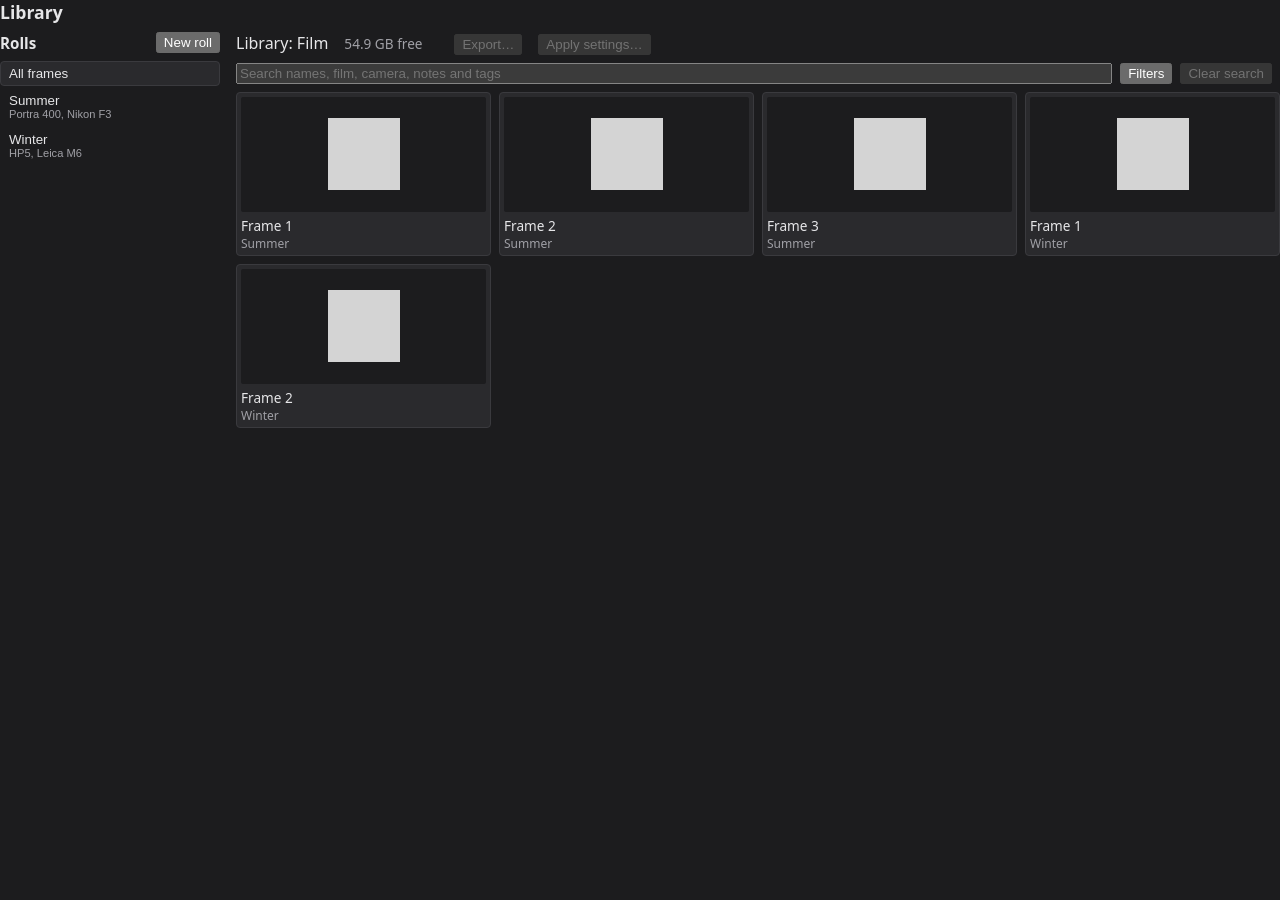
Test: LibraryView › rolls › needs a name, accepts only whole-number ISO, and shows what the backend refuses
The image size is (1280, 900).
Step 1. Click the button "New roll" → (188, 42), box [156,32,220,53]
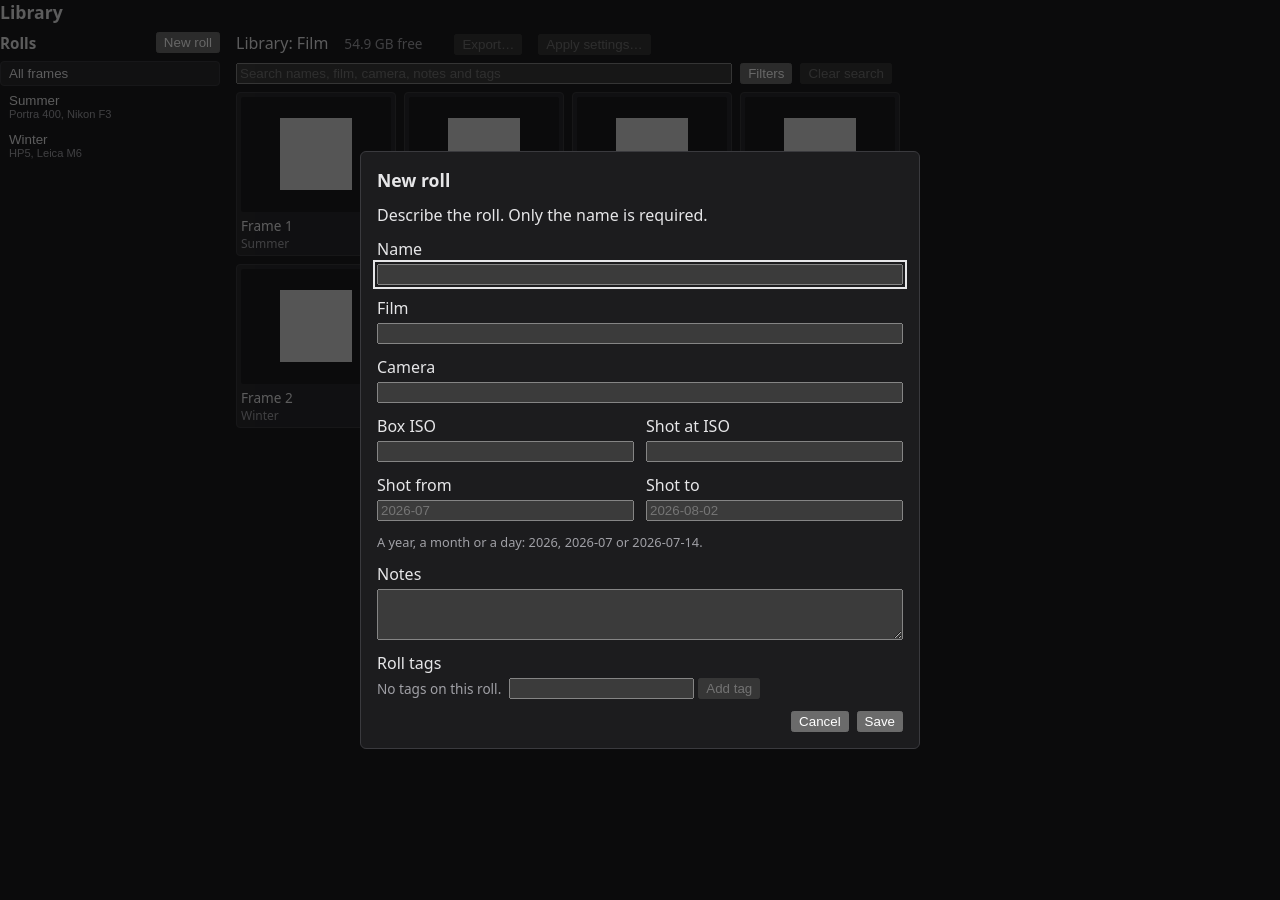
Step 2. Type "4OO" into the field labelled "Box ISO" → (506, 452), box [377,441,634,462]
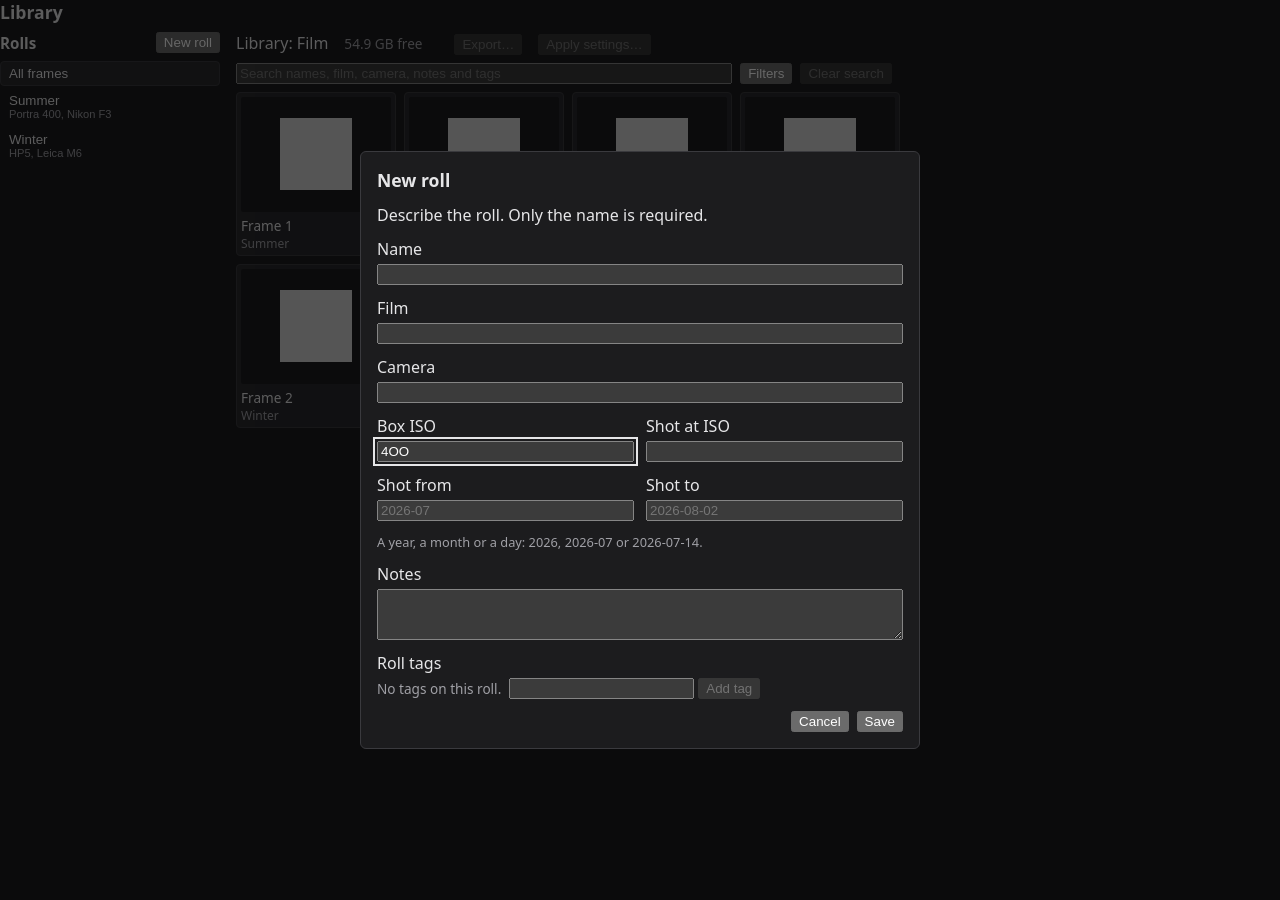
Step 3. Click the button "Save" → (880, 722), box [857,711,903,732]
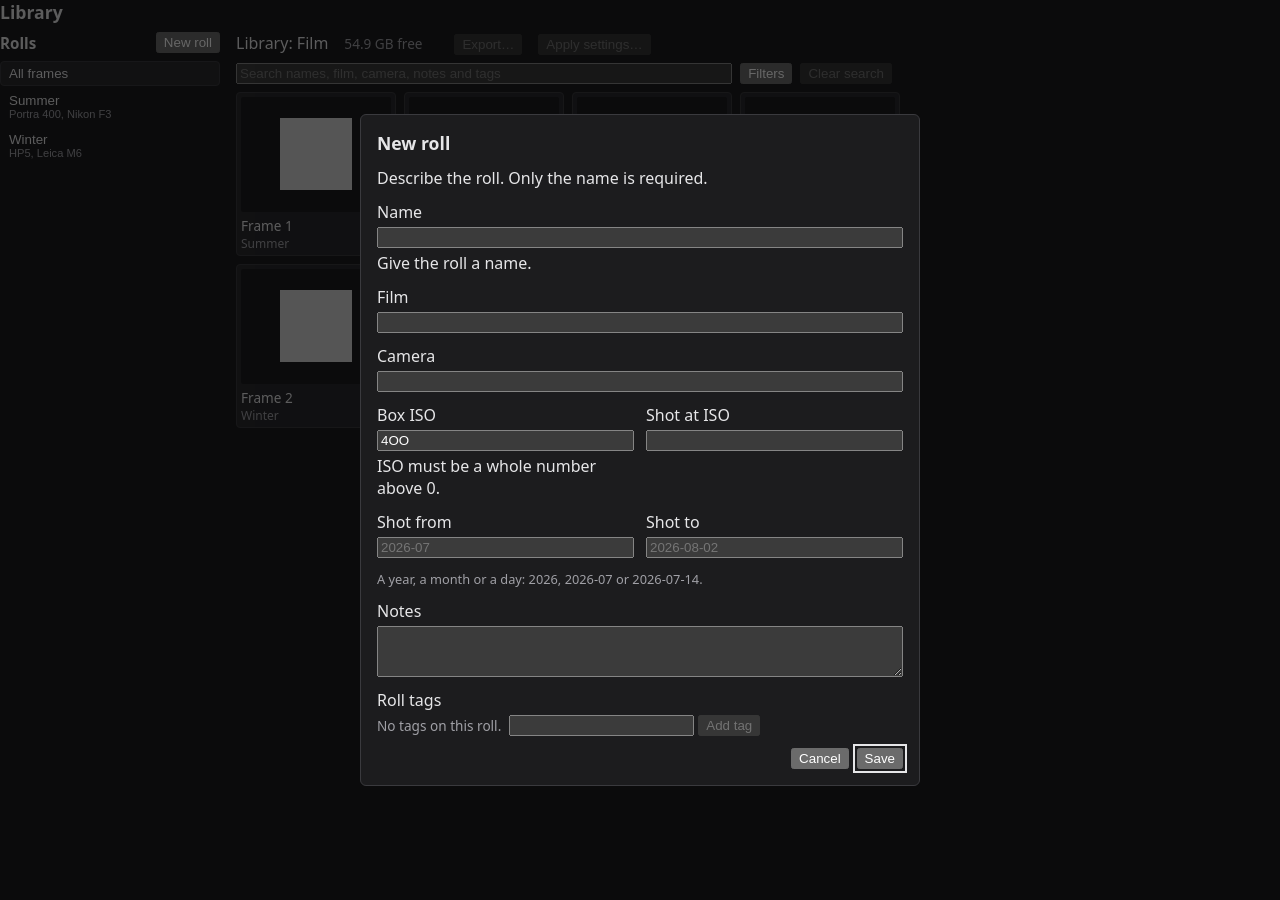
Step 4. Type "X" into the field labelled "Name" → (640, 238), box [377,227,903,248]
Step 5. Clear the field labelled "Box ISO" → (506, 440), box [377,430,634,451]
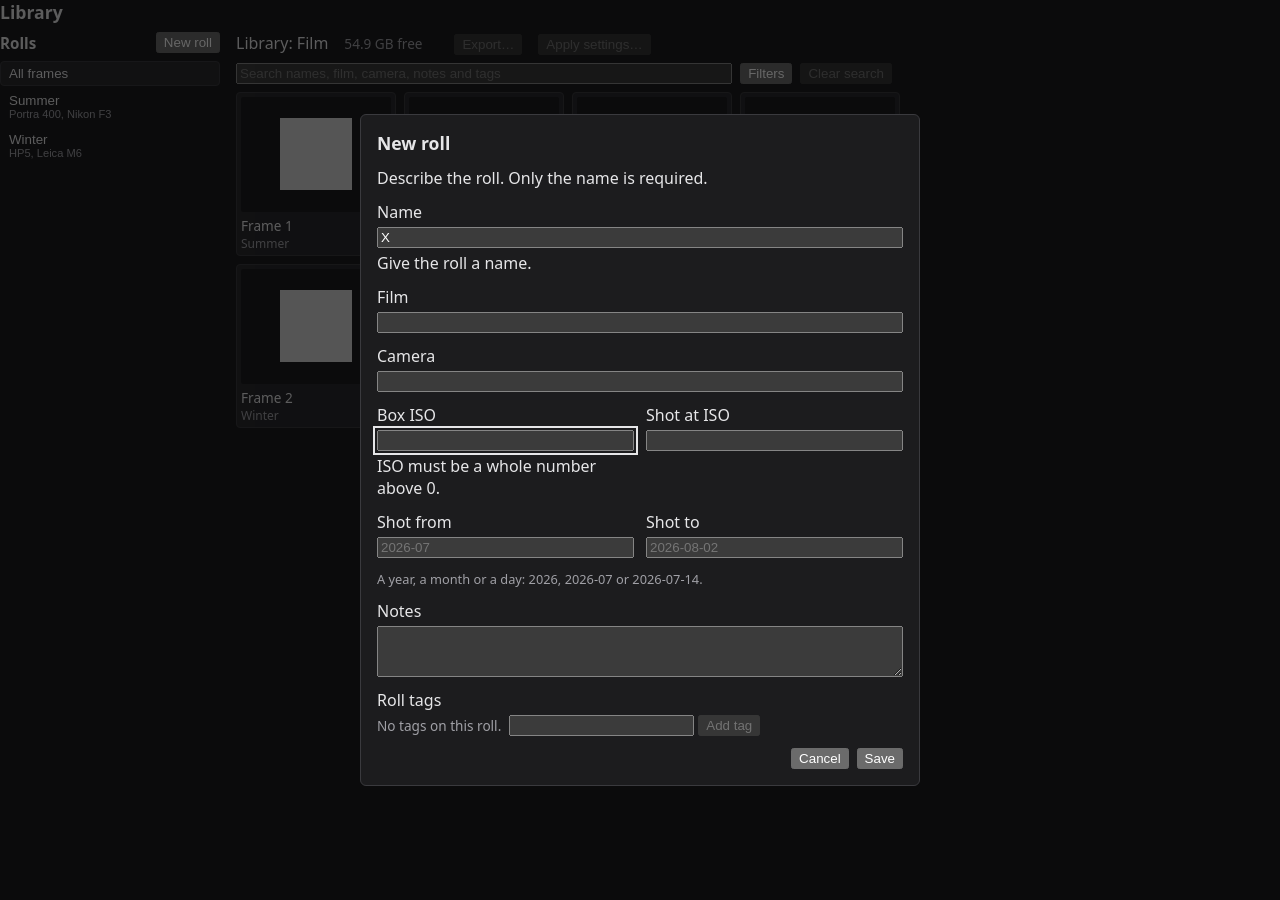
Step 6. Type "2026-13" into the field labelled "Shot from" → (506, 548), box [377,537,634,558]
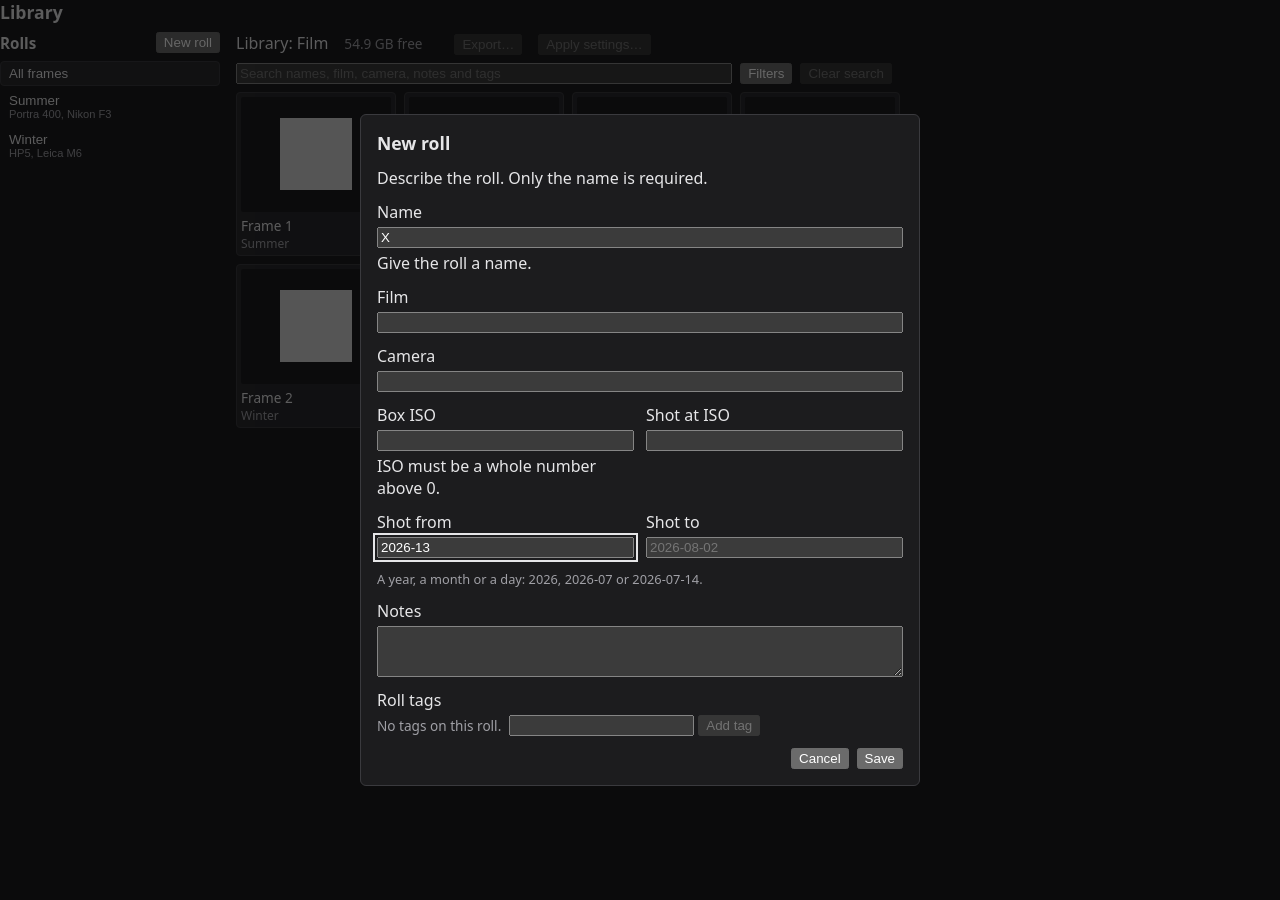
Step 7. Click the button "Save" → (880, 758), box [857,748,903,769]
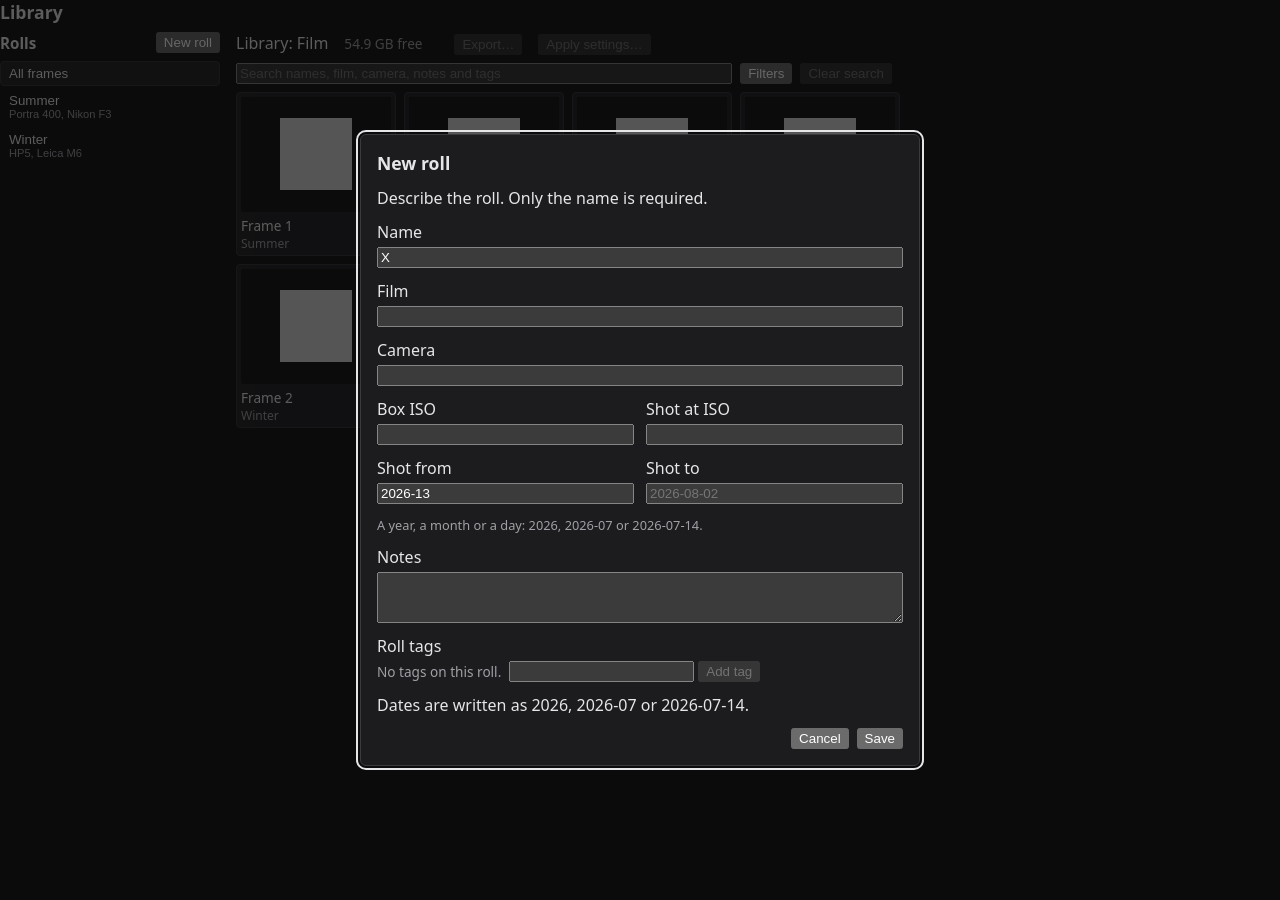
Expected: the dialog is shown, [360,134,920,766]
Expected: the message shows "Dates are written as", [377,694,749,716]
